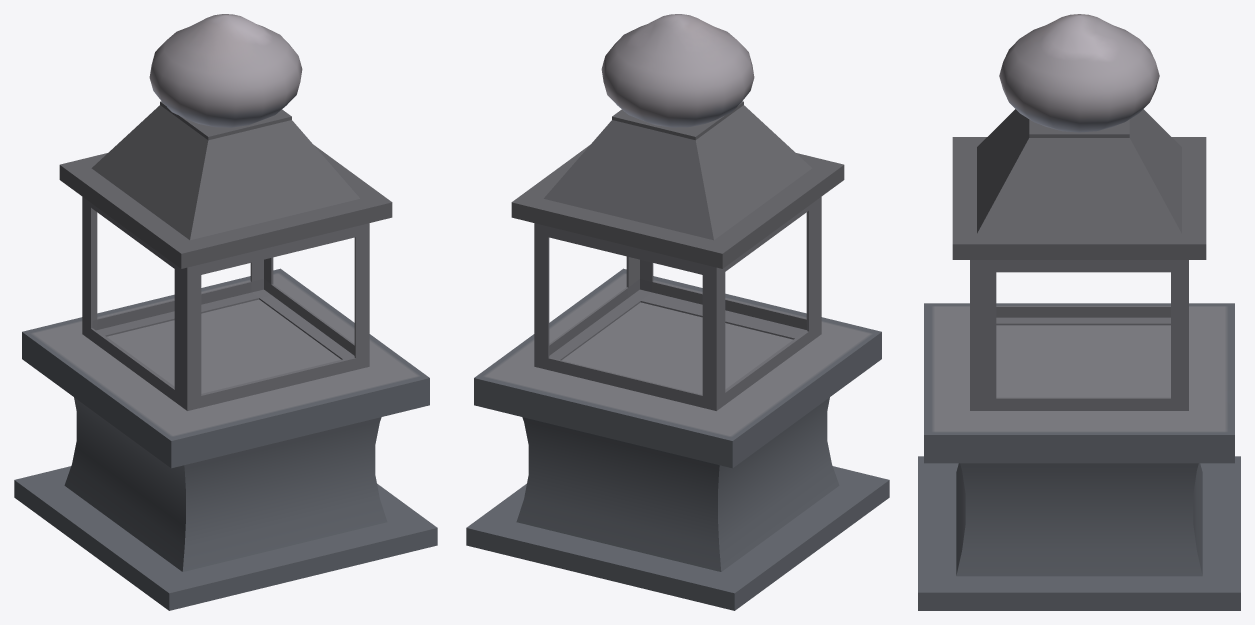
Rendered from farol.fbx.
3 renders of one model, left to right at view 1: azimuth 30°, elevation 25°; view 2: azimuth 150°, elevation 25°; view 3: azimuth 270°, elevation 25°, orthographic. The views are drawn at different scales.
Parts seen in each view (by area): view 1: Farol; view 2: Farol; view 3: Farol.
Boxes of the visible parts, x1,y1,x2,y2 form: Farol: (14,14,437,610); Farol: (466,14,889,610); Farol: (918,14,1240,610).
Bounding box in the file's own units: 104 × 187 × 104.
1 material, 1 textured.
